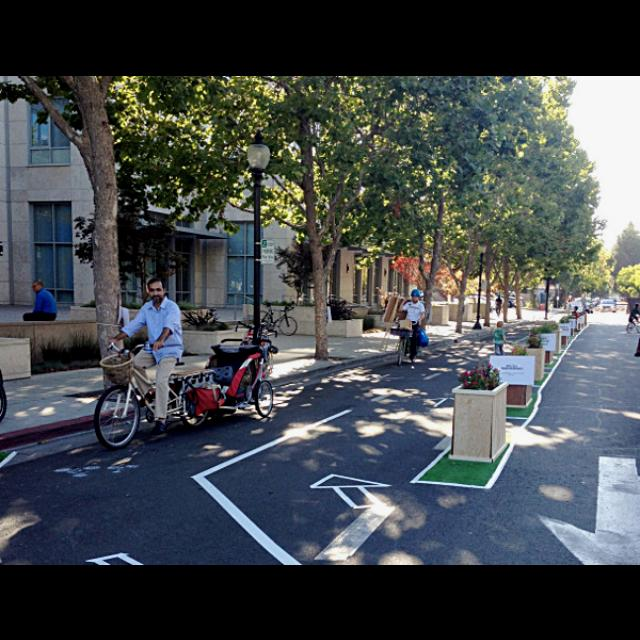With Helmet: (408, 285, 422, 303)
Without Helmet: (142, 276, 168, 300)
